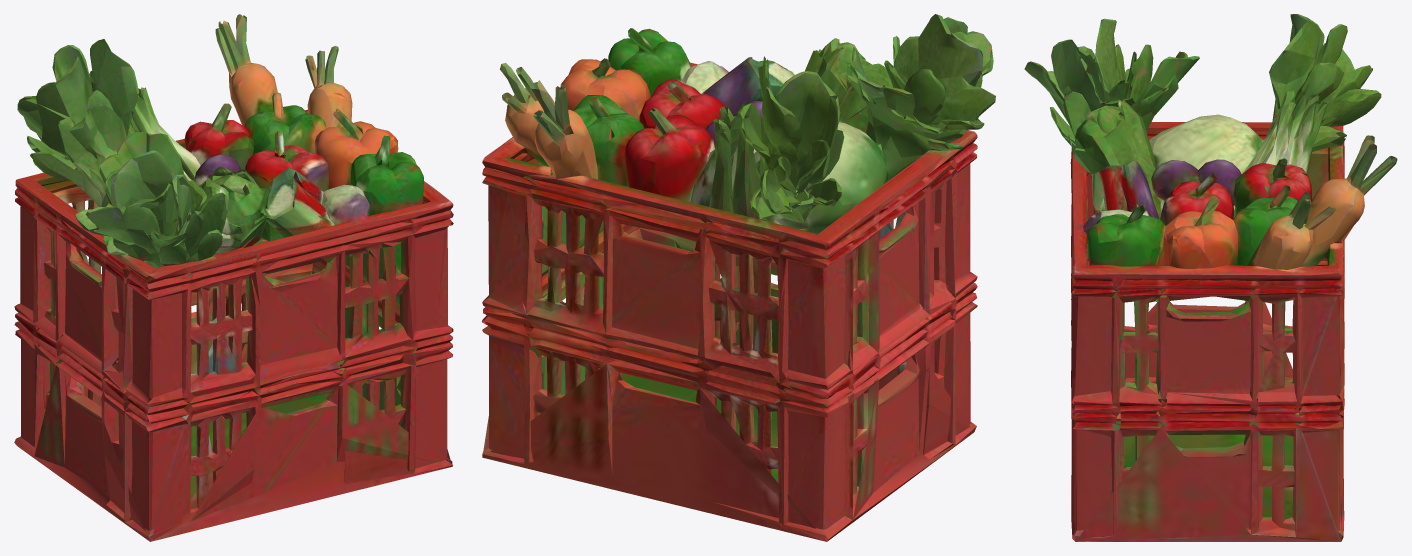
The model's file is veg-crates.glb.
3 renders of one model, left to right at view 1: azimuth 30°, elevation 25°; view 2: azimuth 150°, elevation 25°; view 3: azimuth 270°, elevation 25°, orthographic. The views are drawn at different scales.
Parts seen in each view (by area): view 1: Mesh_0; view 2: Mesh_0; view 3: Mesh_0.
Boxes of the visible parts, x1,y1,x2,y2 form: Mesh_0: (14, 14, 453, 541); Mesh_0: (482, 14, 995, 541); Mesh_0: (1024, 14, 1397, 541).
Size of the model in its own units: 0.6783 by 0.75 by 0.6233.
1 material, 1 textured.
